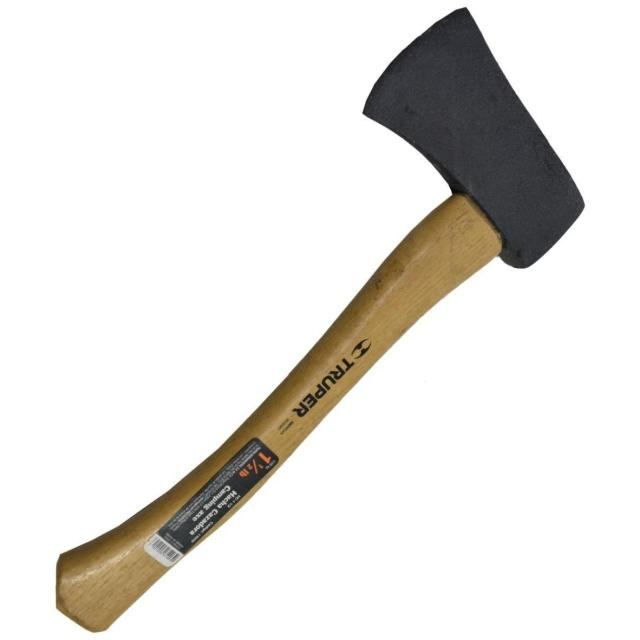Kapak: (34, 9, 592, 640)
